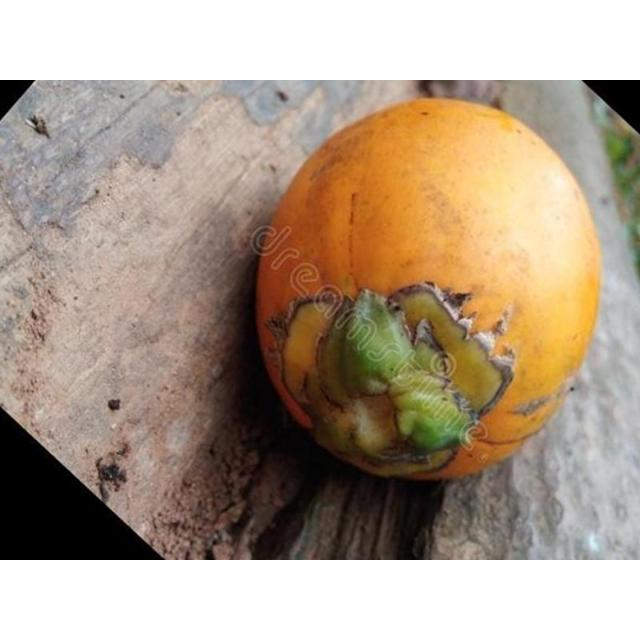good: (255, 98, 602, 483)
